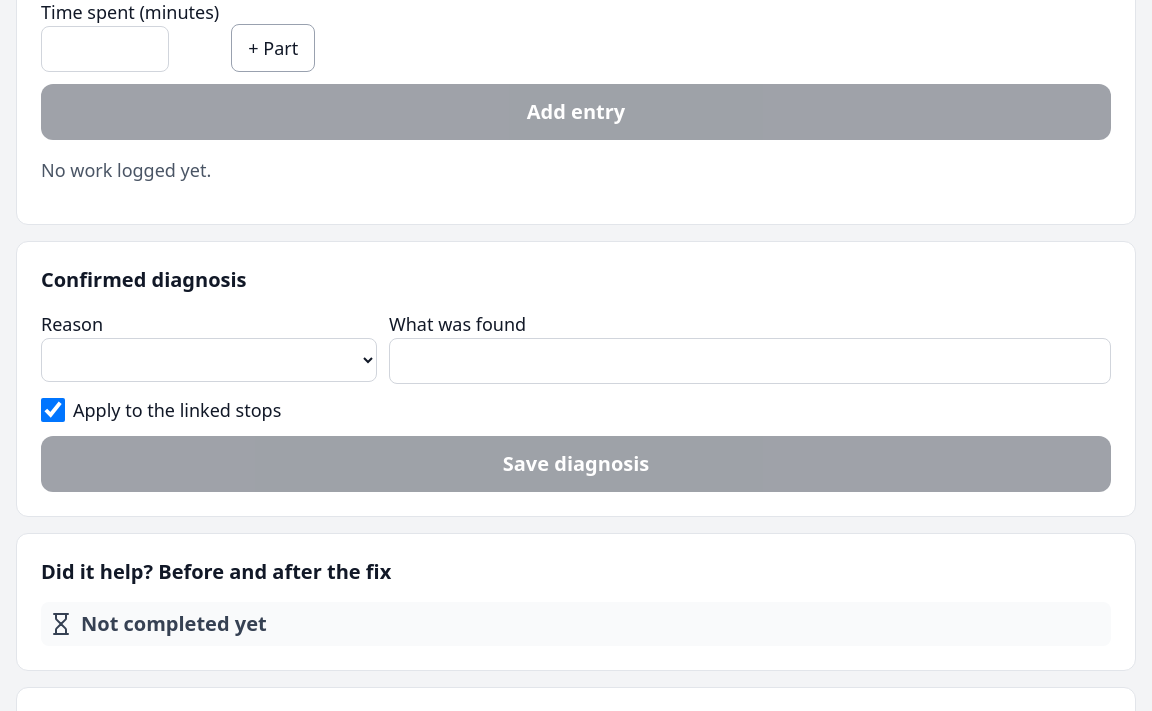
Test: MaintenanceActionPage › previews a diagnosis and applies it, replacing other reasons only when ticked
(page scrolled)
Select "MECH-JAM · Jam / blockage" in the dropdown labelled "Reason": (209, 360) [41,338,377,382]
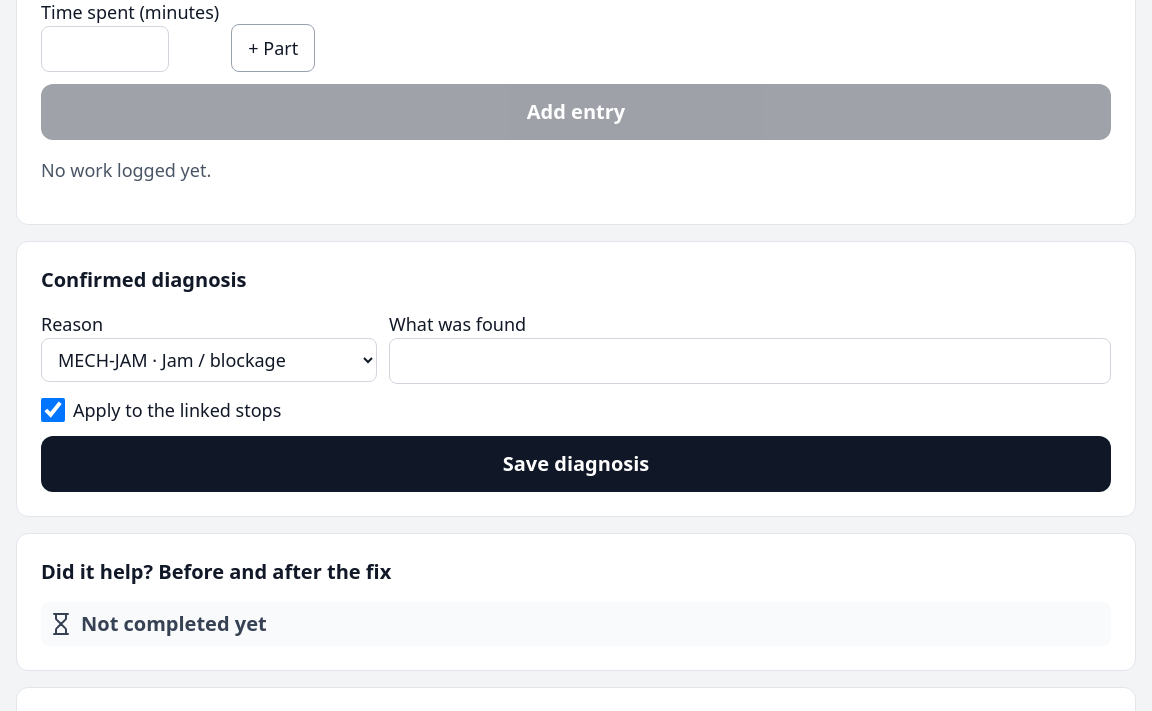
In the field labelled "What was found": (750, 361) [389,338,1111,384], type "Worn roller"
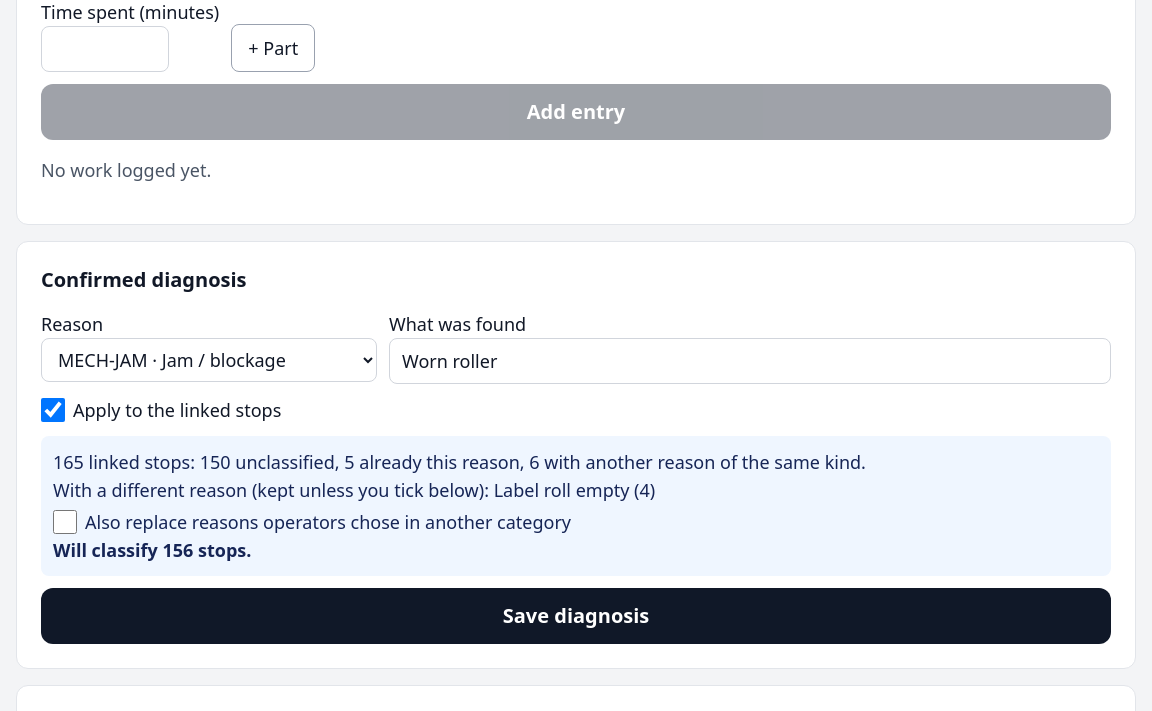
Now the element with test id "diagnosis-preview" reads "165 linked stops: 150 unclassified, 5 already this reason, 6 with another reason", box [53,450,866,474]
Now the element with test id "diagnosis-preview" shows "Label roll empty (4)", box [53,478,655,502]
Now the element with test id "diagnosis-preview" shows "Will classify 156 stops.", box [53,538,251,562]
Click the checkbox labelled "Also replace reasons operators chose in another category": click(65, 522) [53,510,77,534]
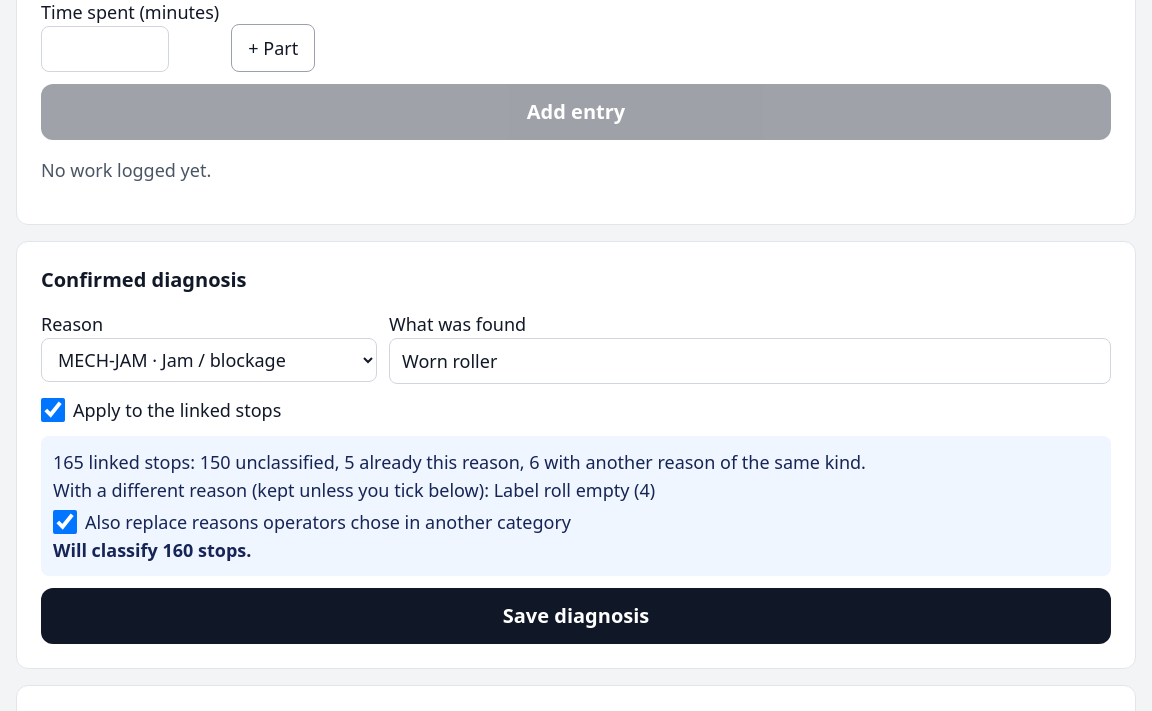
Now the element with test id "diagnosis-preview" shows "Will classify 160 stops.", box [53,538,251,562]
Click the checkbox labelled "Also replace reasons operators chose in another category": click(65, 522) [53,510,77,534]
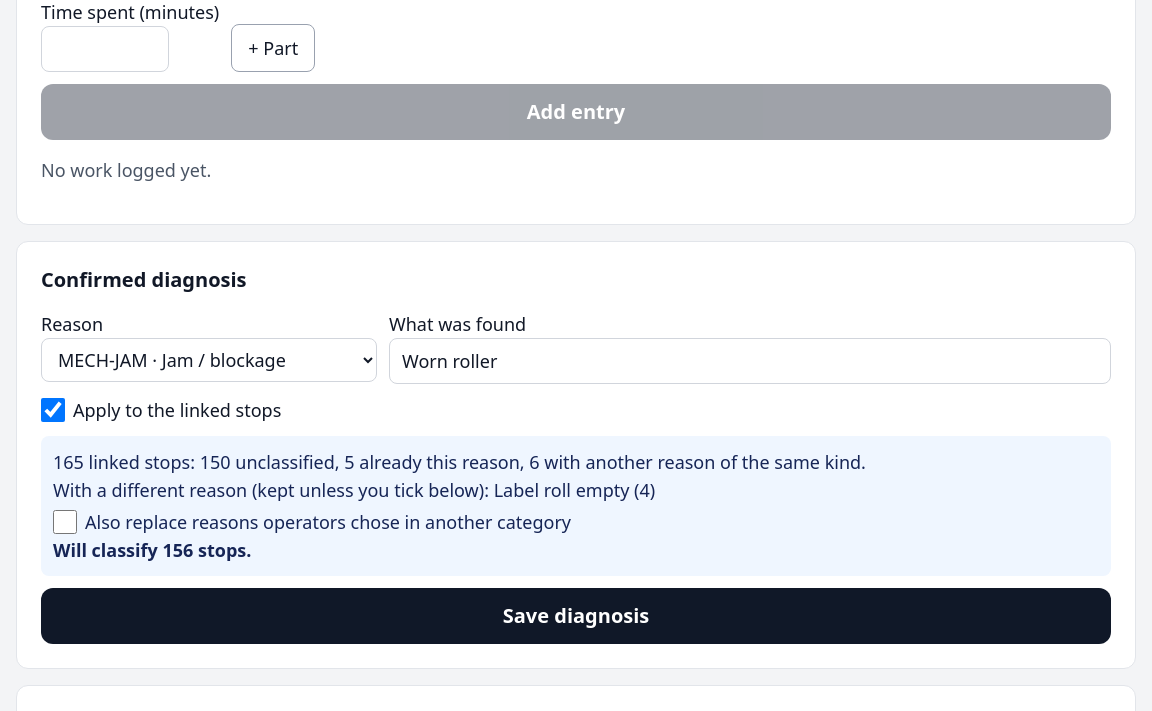
Click the button "Save diagnosis": click(576, 616) [41,588,1111,644]
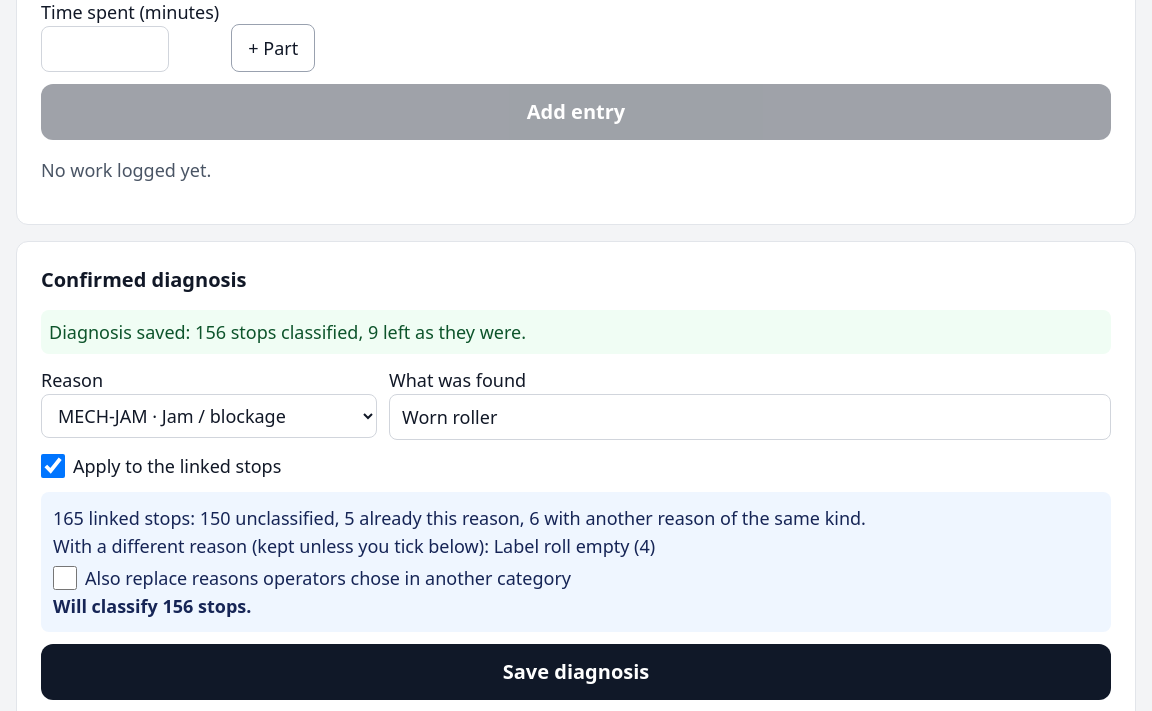
Now the text "Diagnosis saved: 156 stops classified, 9 left as they were." is shown, box [41,310,1111,354]
